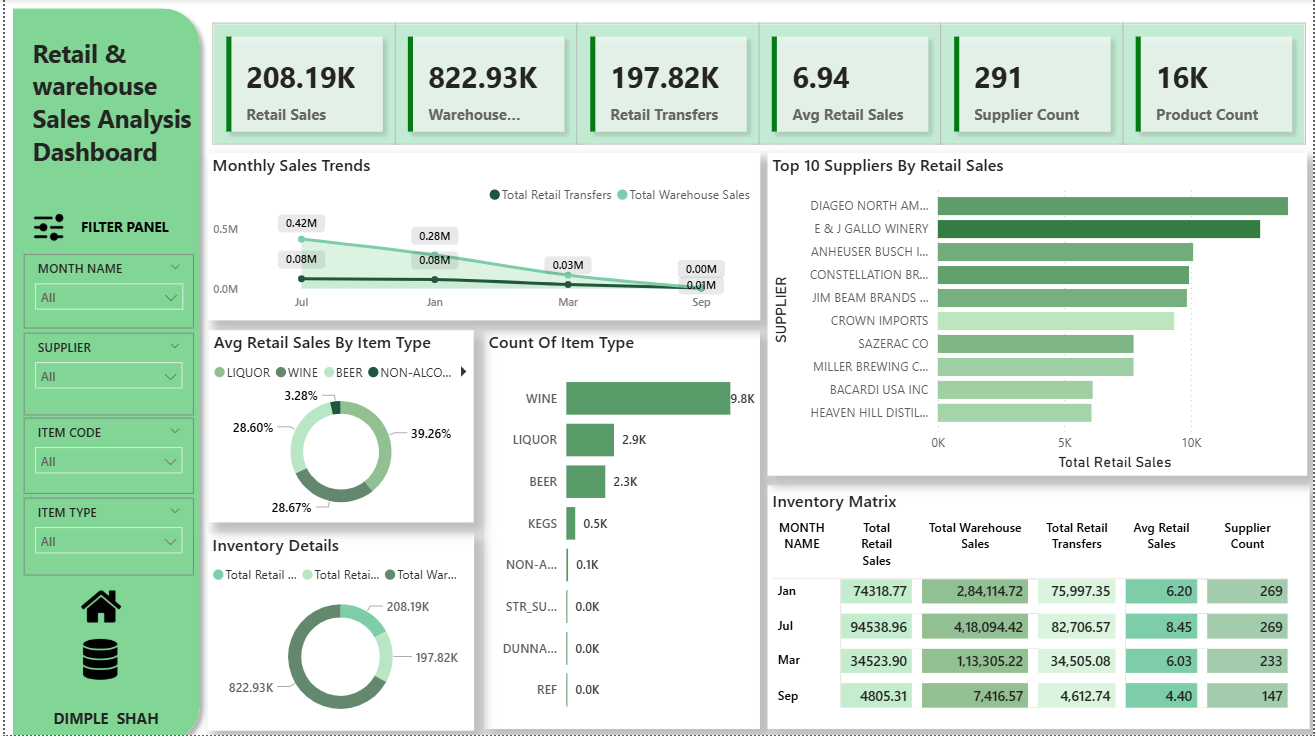

The dashboard page shown, as its layout file describes it:
{"tool":"powerbi","page":{"name":"Sales Trends","canvas":[1280,720],"ordinal":0},"visuals":[{"type":"shape","box":[-0.7,-0.2,201.1,736.8],"z":0},{"type":"textbox","box":[255.7,656.9,189.7,62.8],"z":1000},{"type":"textbox","box":[255.7,597.2,189.7,62.8],"z":2000},{"type":"textbox","box":[22,31.8,167.5,148],"z":3000},{"type":"cardVisual","fields":{"Data":["Measures Table.Total Retail Sales","Measures Table.Total Warehouse Sales","Measures Table.Total Retail Transfers","Measures Table.Avg Retail Sales","Measures Table.Supplier Count","Measures Table.Product Count"]},"box":[198.1,18.3,1079.8,129.6],"z":4000},{"type":"pieChart","title":"Inventory Details","fields":{"Y":["Measures Table.Total Retail Sales","Measures Table.Total Retail Transfers","Measures Table.Total Warehouse Sales"]},"box":[198.1,522.1,260.5,193.2],"z":5000},{"type":"slicer","fields":{"Values":["Cleaned Retail and Warehouse Sales.MONTH NAME"]},"box":[17.9,249.8,166.7,72.8],"z":6000},{"type":"slicer","fields":{"Values":["Cleaned Retail and Warehouse Sales.ITEM CODE"]},"box":[18.3,409.6,166.3,74.6],"z":7000},{"type":"slicer","fields":{"Values":["Cleaned Retail and Warehouse Sales.ITEM TYPE"]},"box":[18.3,487.9,166.3,75.8],"z":8000},{"type":"textbox","box":[64.2,208.8,107.1,31.7],"z":9000},{"type":"image","box":[17.9,203.5,48.9,41],"z":10000},{"type":"image","box":[67.3,569.8,53.8,48.9],"z":11000},{"type":"image","box":[63.6,621.2,58.7,50.1],"z":12000},{"type":"slicer","fields":{"Values":["Cleaned Retail and Warehouse Sales.SUPPLIER"]},"box":[18.3,326.5,166.3,80.7],"z":13000},{"type":"textbox","box":[36.4,688,124.3,31.7],"z":14000},{"type":"barChart","title":"Count Of Item Type","fields":{"Y":["Measures Table.Product Count"],"Category":["Cleaned Retail and Warehouse Sales.ITEM TYPE"]},"box":[468.3,324.1,270.2,390.1],"z":15000},{"type":"lineChart","title":"Monthly Sales Trends","fields":{"Y":["Measures Table.Total Retail Transfers","Measures Table.Total Warehouse Sales"],"Category":["Cleaned Retail and Warehouse Sales.MONTH NAME"]},"box":[198.1,150.4,540.5,163.9],"z":16000},{"type":"donutChart","title":"Avg Retail Sales By Item Type","fields":{"Category":["Cleaned Retail and Warehouse Sales.ITEM TYPE"],"Y":["Measures Table.Total Retail Sales"]},"box":[199.3,324.1,259.2,188.3],"z":17000},{"type":"pivotTable","title":"Inventory Matrix","fields":{"Values":["Measures Table.Total Retail Sales","Measures Table.Total Warehouse Sales","Measures Table.Total Retail Transfers","Measures Table.Avg Retail Sales","Measures Table.Supplier Count"],"Rows":["Cleaned Retail and Warehouse Sales.MONTH NAME"]},"box":[745.9,475.7,530.7,238.5],"z":18000},{"type":"barChart","title":"Top 10 Suppliers By Retail Sales","fields":{"Category":["Cleaned Retail and Warehouse Sales.SUPPLIER"],"Y":["Measures Table.Total Retail Sales"]},"box":[746.5,150.9,528.3,315.6],"z":19000}]}

Visuals, with their boxes in screenshot pixels (x1, y1, x2, y2), scaled from the page's 1280x720 canvas onto the 1315x737 screenshot:
shape: left=0, top=0, right=206, bottom=736
textbox: left=263, top=672, right=458, bottom=736
textbox: left=263, top=611, right=458, bottom=676
textbox: left=23, top=33, right=195, bottom=184
cardVisual - Measures Table.Total Retail Sales x Measures Table.Total Warehouse Sales: left=204, top=19, right=1313, bottom=151
"Inventory Details" pieChart: left=204, top=534, right=471, bottom=732
slicer - Cleaned Retail and Warehouse Sales.MONTH NAME: left=18, top=256, right=190, bottom=330
slicer - Cleaned Retail and Warehouse Sales.ITEM CODE: left=19, top=419, right=190, bottom=496
slicer - Cleaned Retail and Warehouse Sales.ITEM TYPE: left=19, top=499, right=190, bottom=577
textbox: left=66, top=214, right=176, bottom=246
image: left=18, top=208, right=69, bottom=250
image: left=69, top=583, right=124, bottom=633
image: left=65, top=636, right=126, bottom=687
slicer - Cleaned Retail and Warehouse Sales.SUPPLIER: left=19, top=334, right=190, bottom=417
textbox: left=37, top=704, right=165, bottom=736
"Count Of Item Type" barChart: left=481, top=332, right=759, bottom=731
"Monthly Sales Trends" lineChart: left=204, top=154, right=759, bottom=322
"Avg Retail Sales By Item Type" donutChart: left=205, top=332, right=471, bottom=524
"Inventory Matrix" pivotTable: left=766, top=487, right=1312, bottom=731
"Top 10 Suppliers By Retail Sales" barChart: left=767, top=154, right=1310, bottom=478
